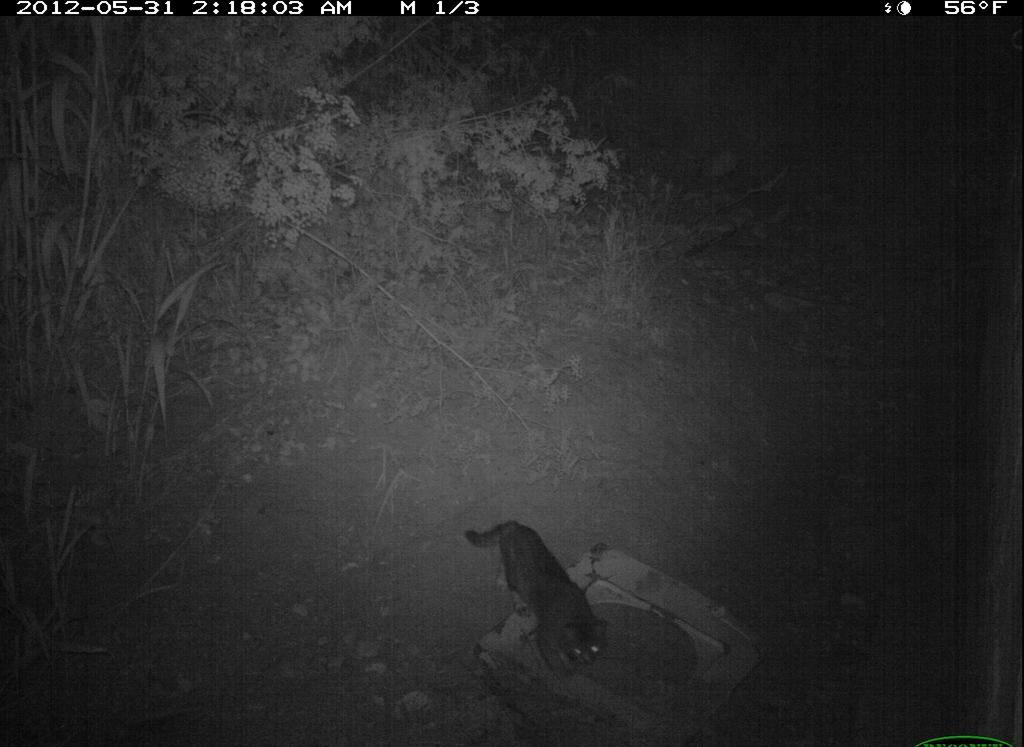cat: (454, 508, 614, 690)
